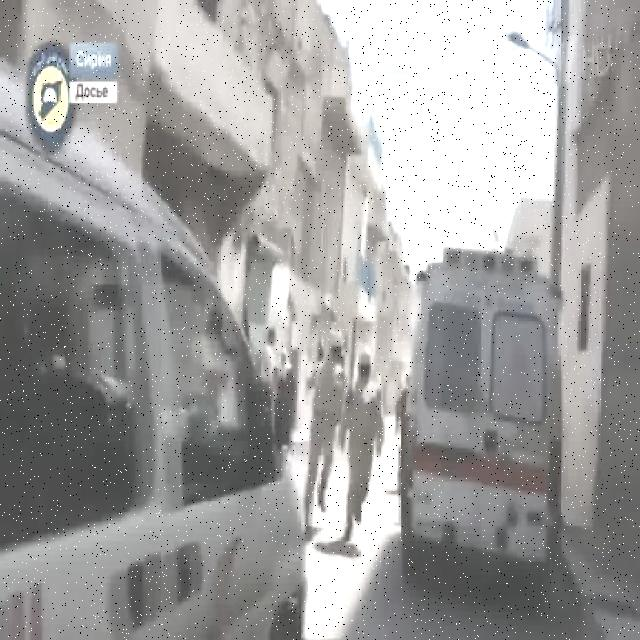Helmet: (328, 326, 344, 352), (357, 348, 372, 370)
